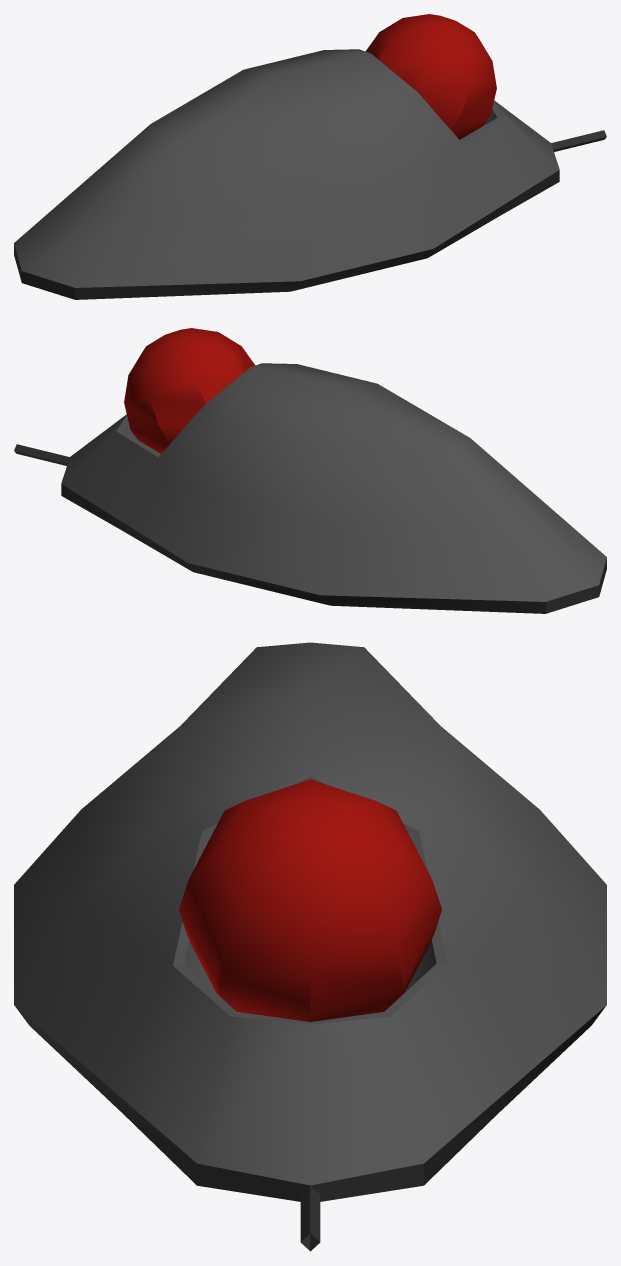
File: 3trackballmouse.glb
3 views of the same model, one above another, from view 1: azimuth 30°, elevation 25°; view 2: azimuth 150°, elevation 25°; view 3: azimuth 270°, elevation 25° (orthographic). The views are drawn at different scales.
Visible parts, largest first — view 1: Sphere_2; view 2: Sphere_2; view 3: Sphere_2.
Part boxes in pixels (x1,y1,x2,y2): Sphere_2: [14, 14, 606, 299]; Sphere_2: [14, 328, 606, 613]; Sphere_2: [14, 642, 606, 1251].
Size of the model in its own units: 0.1992 by 0.0535 by 0.0949.
